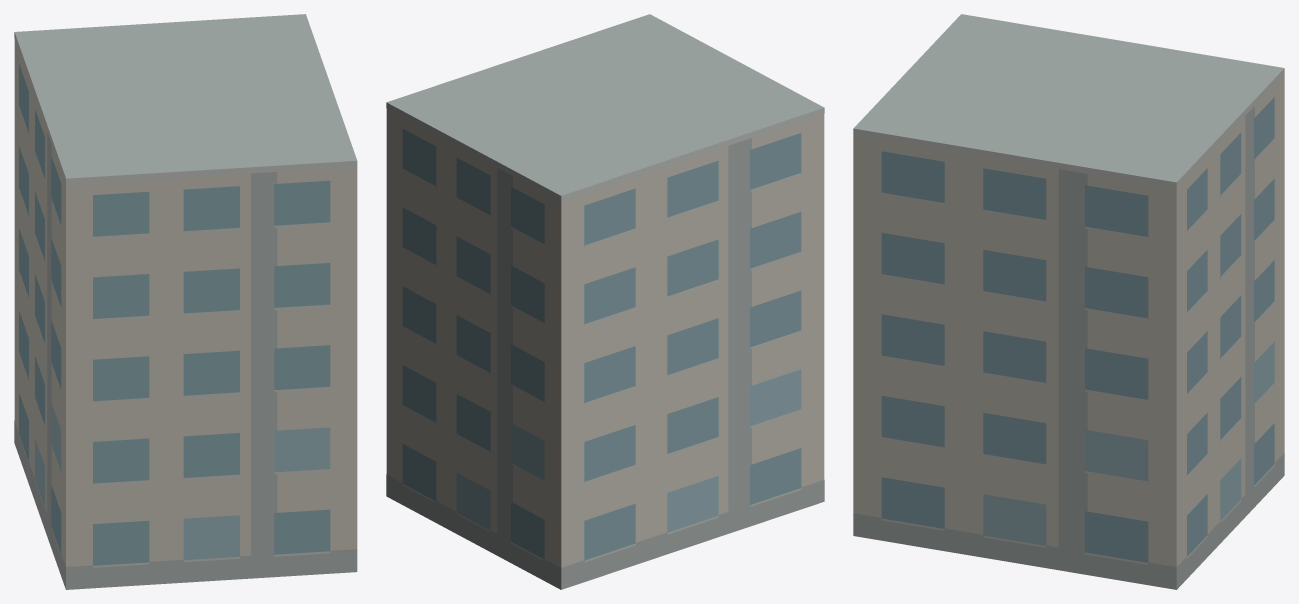
File: survey-upis-32990367.glb
3 renders of one model, left to right at view 1: azimuth 30°, elevation 25°; view 2: azimuth 150°, elevation 25°; view 3: azimuth 270°, elevation 25°, orthographic. The views are drawn at different scales.
Visible parts, largest first — view 1: survey-upis-32990367.tmp; view 2: survey-upis-32990367.tmp; view 3: survey-upis-32990367.tmp.
Part boxes in pixels (x1=…): survey-upis-32990367.tmp: x1=14, y1=14, x2=357, y2=589; survey-upis-32990367.tmp: x1=386, y1=14, x2=824, y2=589; survey-upis-32990367.tmp: x1=853, y1=14, x2=1284, y2=589.
Size of the model in its own units: 14.29 by 16.1 by 15.46.
